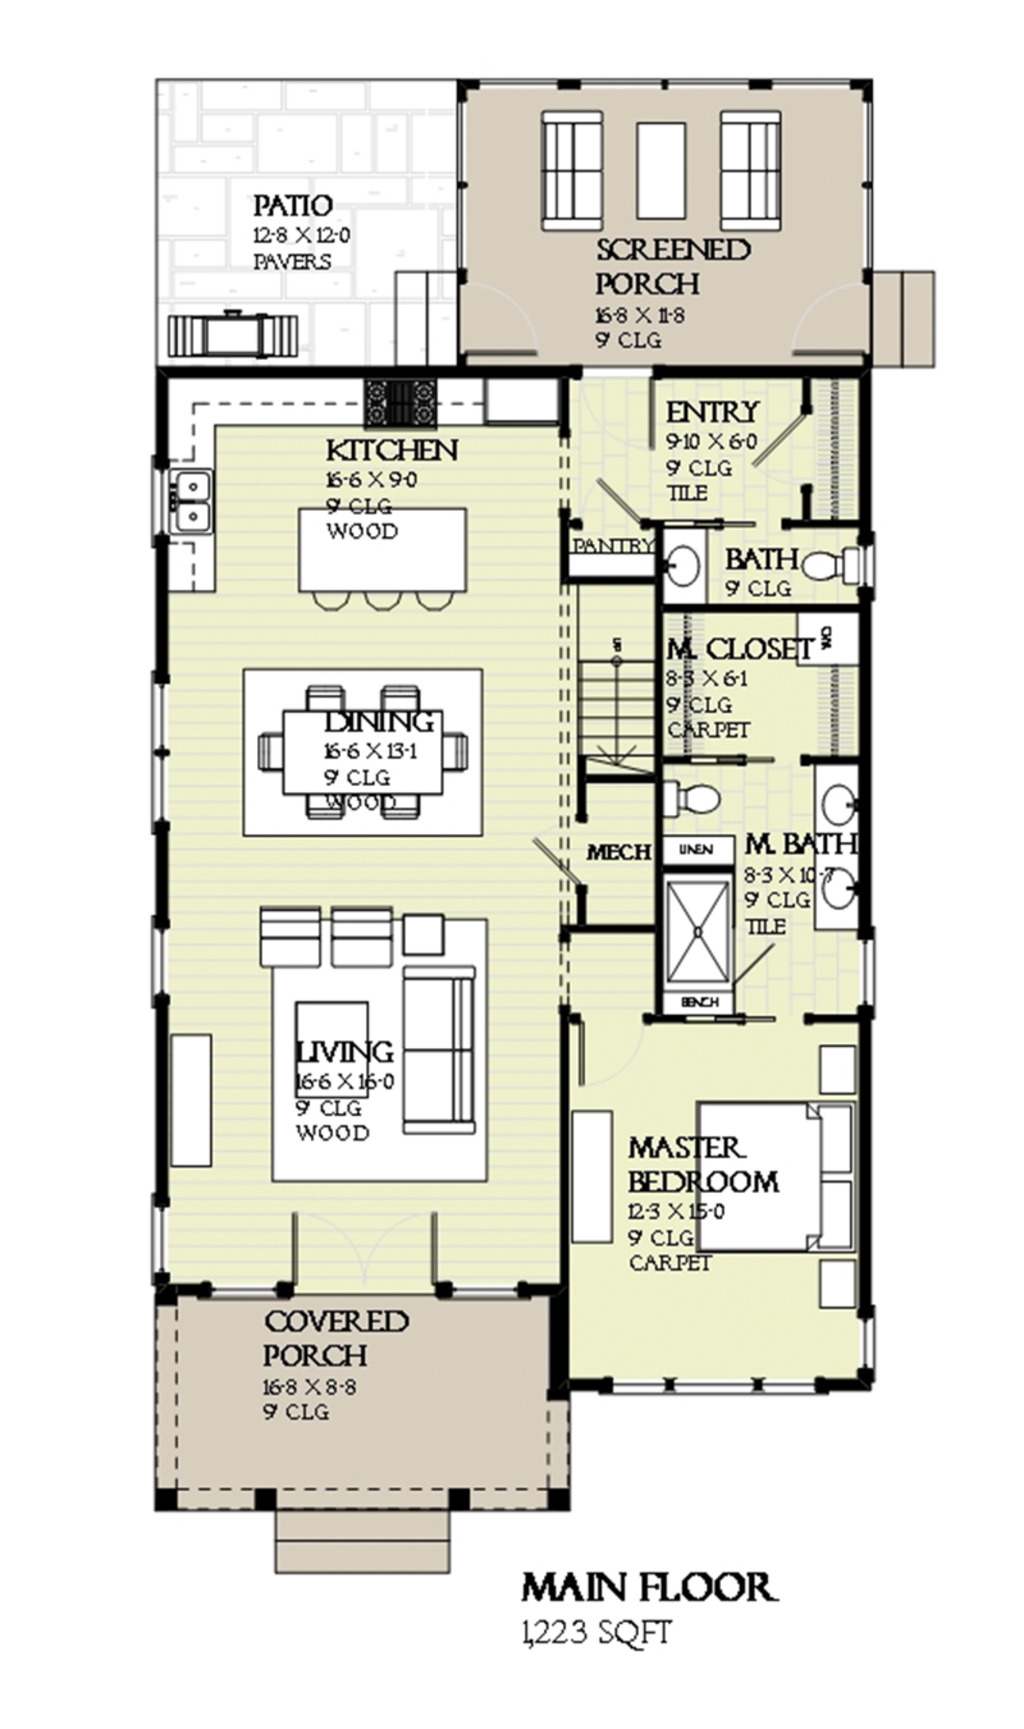bed: (685, 1095, 861, 1253), (600, 1370, 833, 1402)
dining_table: (258, 671, 468, 827)
kitchen_bar: (293, 500, 482, 619)
large_sink: (796, 534, 878, 592), (663, 766, 722, 825)
large_sofa: (397, 960, 486, 1145), (713, 106, 789, 240), (538, 101, 611, 238)
small_sink: (802, 755, 872, 942), (655, 528, 718, 606)
small_sofa: (257, 900, 332, 971), (328, 905, 394, 975)
stairs: (568, 579, 666, 771)
twin_sink: (169, 465, 219, 542)
windows: (589, 1373, 824, 1401), (146, 666, 179, 829), (148, 919, 176, 1005), (148, 1195, 172, 1271)
